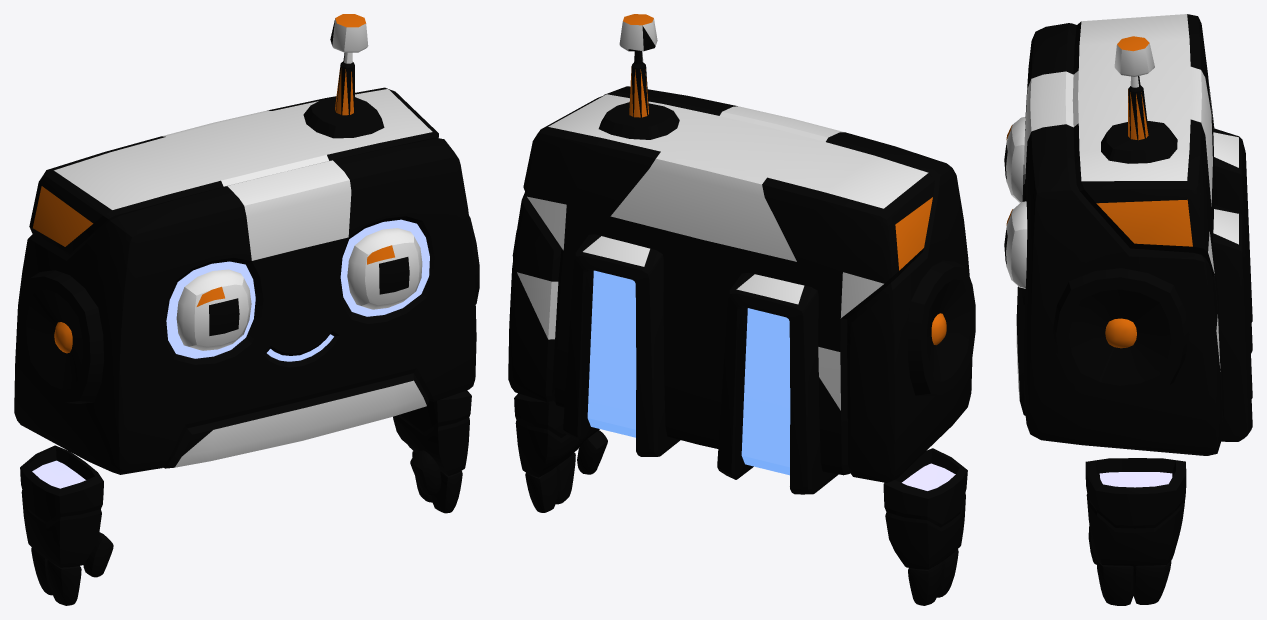
Rendered from robot11.glb.
3 renders of one model, left to right at view 1: azimuth 30°, elevation 25°; view 2: azimuth 150°, elevation 25°; view 3: azimuth 270°, elevation 25°, orthographic. The views are drawn at different scales.
Parts seen in each view (by area): view 1: Object_21, Object_22; view 2: Object_21, Object_22; view 3: Object_21, Object_22.
Boxes of the visible parts, x1=… form: Object_21: x1=14, y1=14, x2=479, y2=605; Object_22: x1=32, y1=219, x2=429, y2=488; Object_21: x1=508, y1=14, x2=975, y2=605; Object_22: x1=587, y1=270, x2=955, y2=490; Object_21: x1=1004, y1=14, x2=1252, y2=605; Object_22: x1=1099, y1=472, x2=1172, y2=487.
Size of the model in its own units: 32.6 by 37.45 by 16.24.
